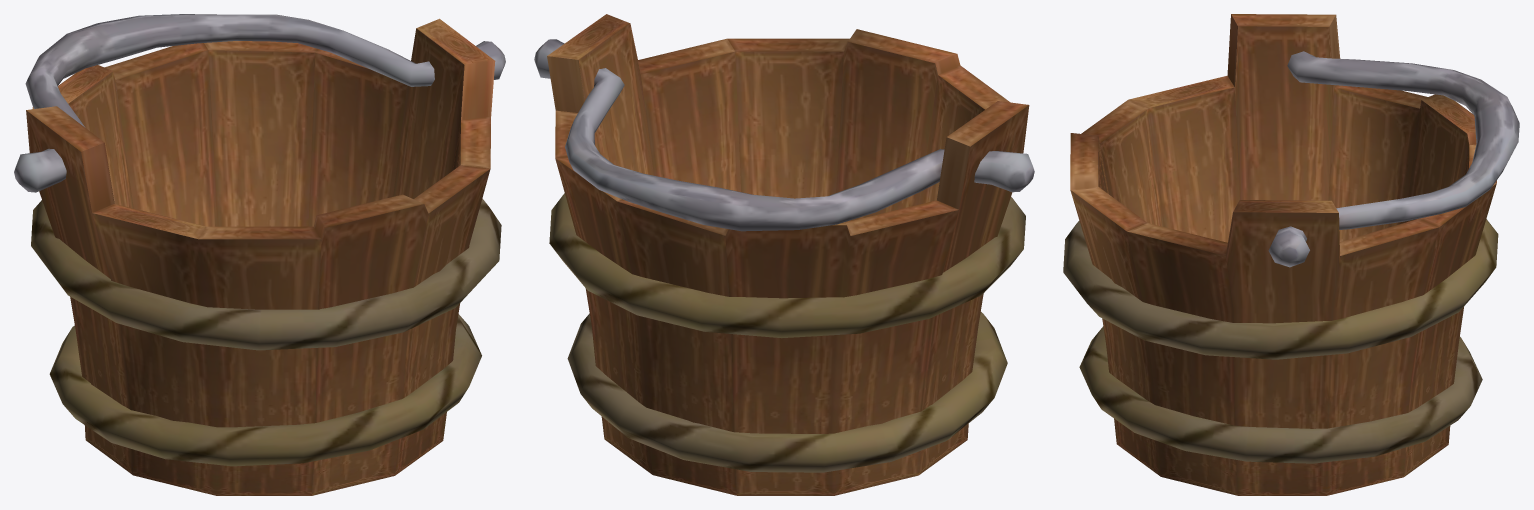
File: prop_bucket.glb
The picture shows the model from 3 angles, left to right: view 1: azimuth 30°, elevation 25°; view 2: azimuth 150°, elevation 25°; view 3: azimuth 270°, elevation 25°; orthographic projection. The views are drawn at different scales.
Parts seen in each view (by area): view 1: Bucket_Wooden_1; view 2: Bucket_Wooden_1; view 3: Bucket_Wooden_1.
Part boxes in pixels (box(x1,y1,x2,y2)): Bucket_Wooden_1: box(14, 14, 505, 495); Bucket_Wooden_1: box(534, 14, 1034, 495); Bucket_Wooden_1: box(1063, 14, 1519, 495).
Size of the model in its own units: 0.4339 by 0.2928 by 0.3835.
2 materials, 2 textured.
